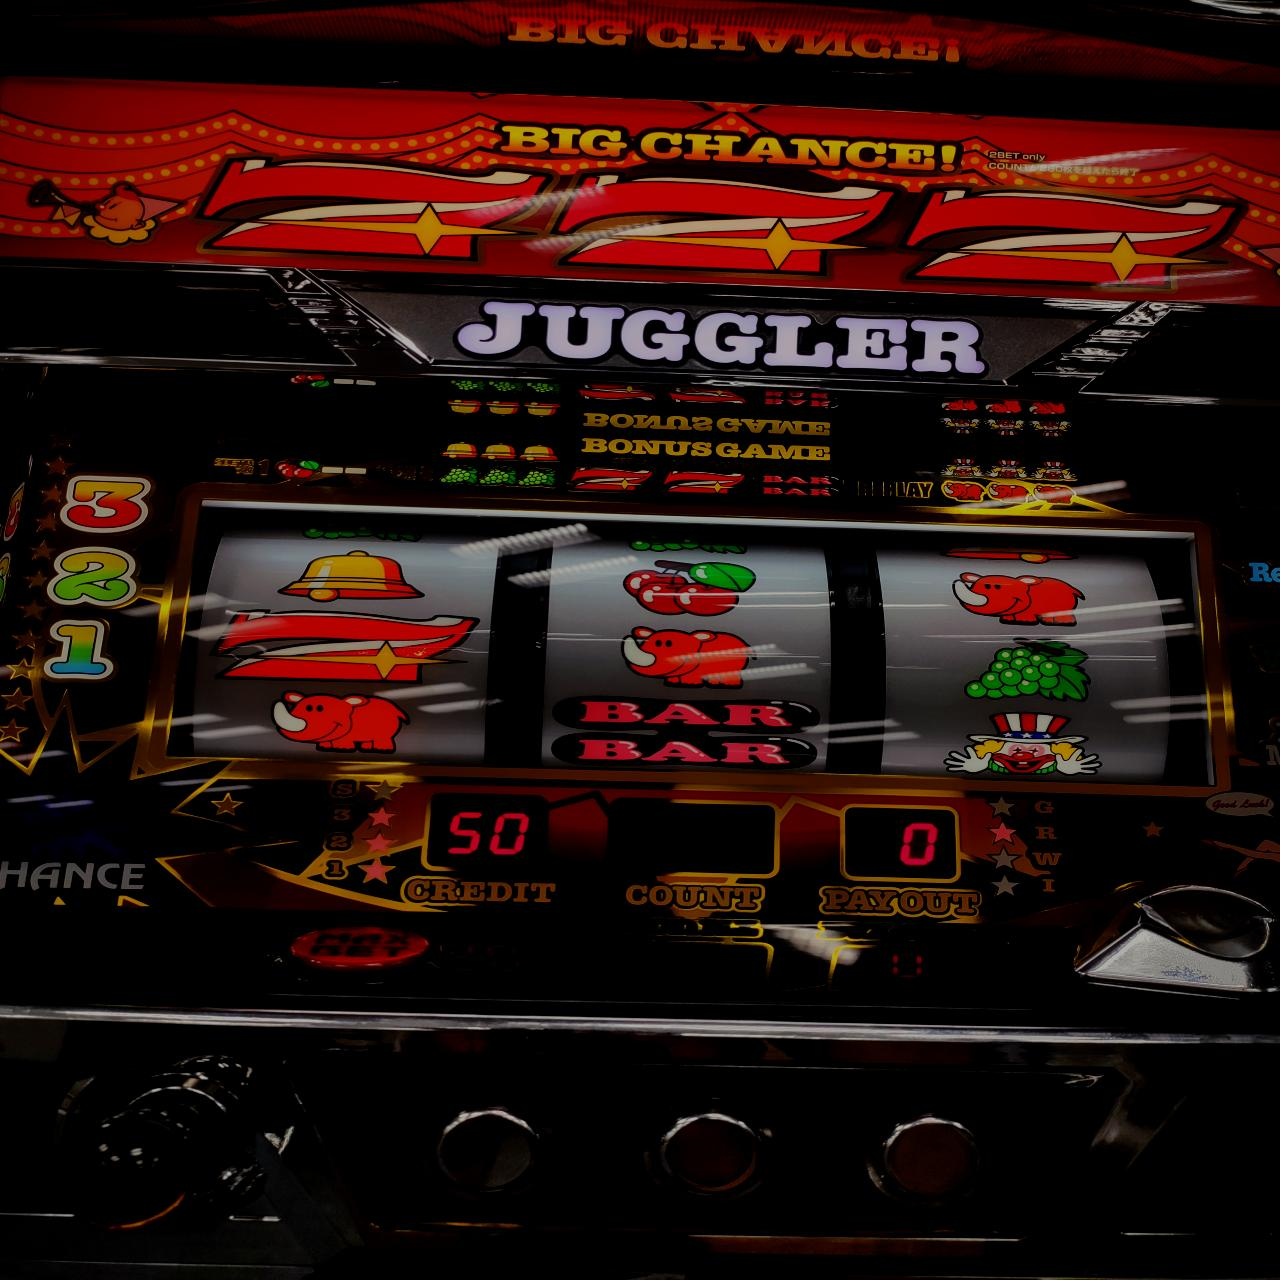7: (210, 608, 474, 683)
8: (617, 624, 757, 689), (272, 690, 408, 751), (948, 570, 1089, 626)
Display: (185, 491, 1217, 791)
bar: (550, 696, 823, 770)
bell: (278, 550, 424, 606)
cherry: (620, 558, 758, 618)
clown: (944, 713, 1107, 779)
grape: (959, 634, 1094, 702)
